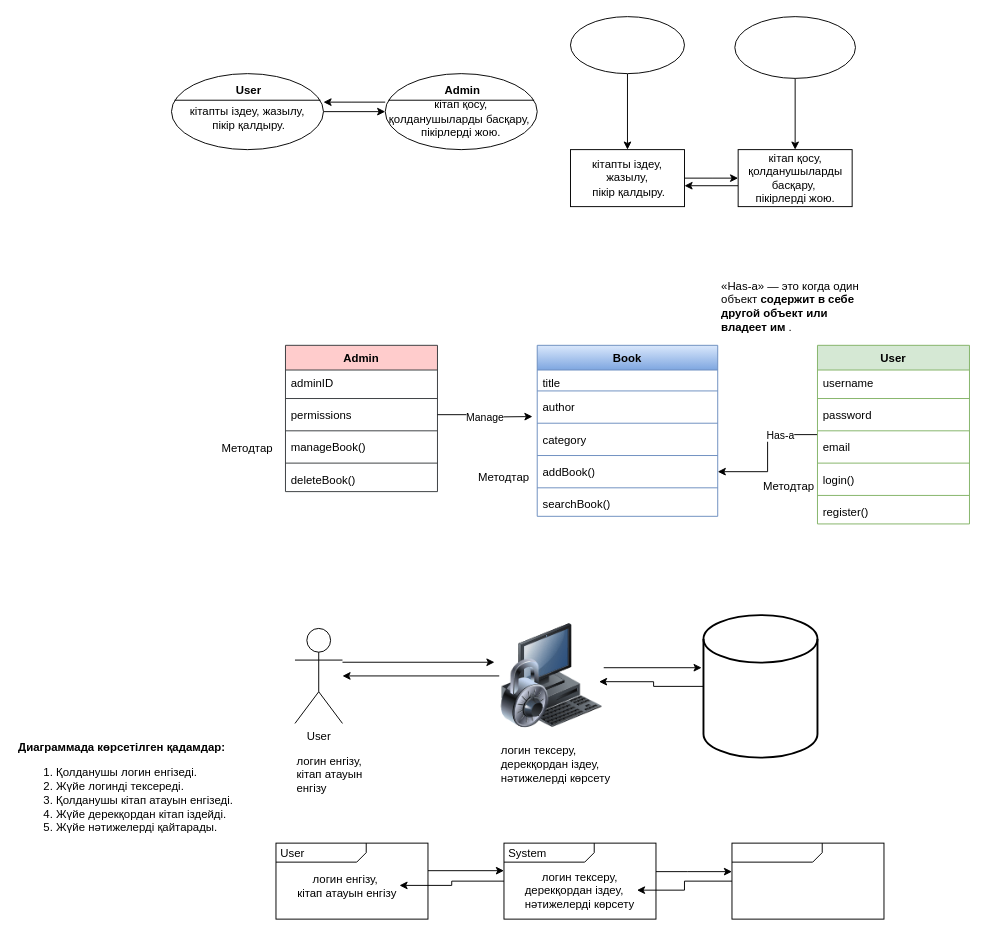
Some shapes in this 986 by 936 pixel diagram are drawn without their labels. The shapes that lost their labels are listed below. From the top down, each one's centre as x and y in pixels, then its label:
At point (627, 45): "Қолданушы".
At point (794, 47): "Админ".
At point (807, 880): "Database".
